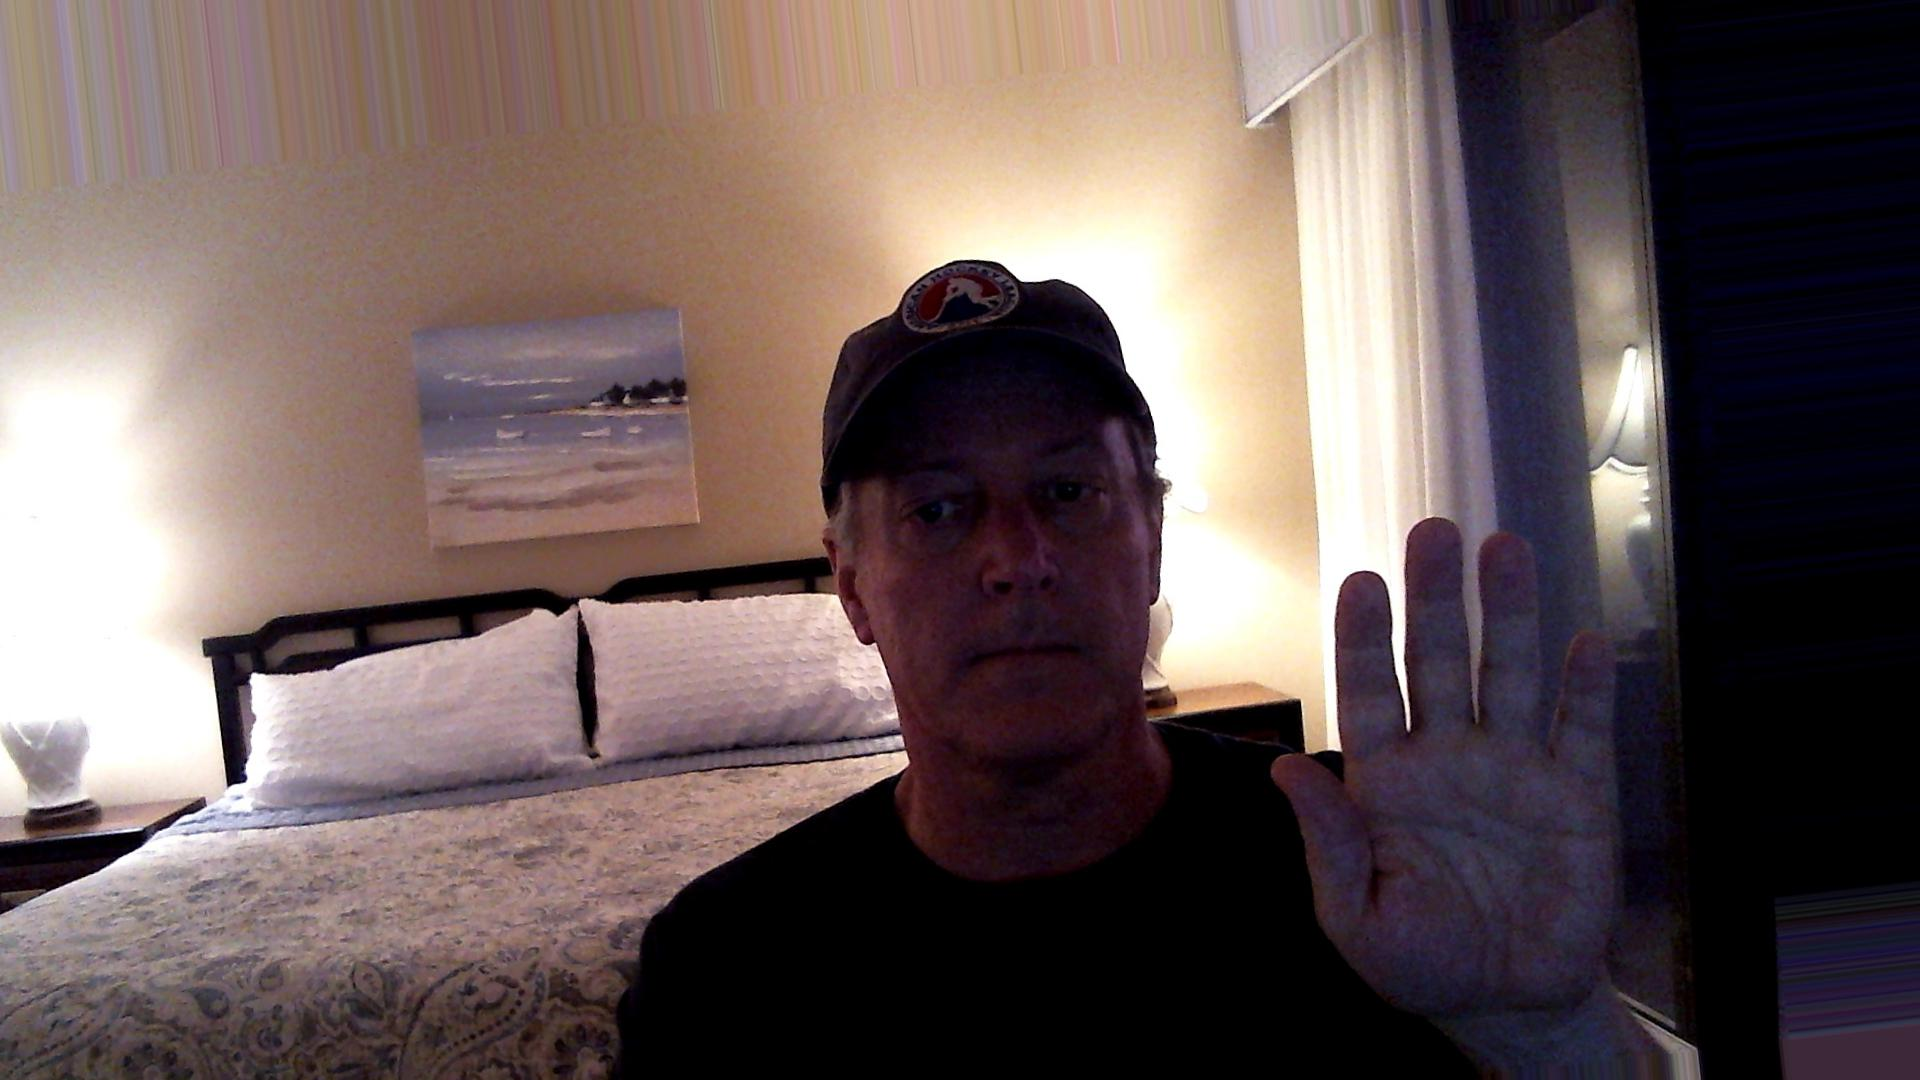Hello: (1253, 504, 1655, 1034)
